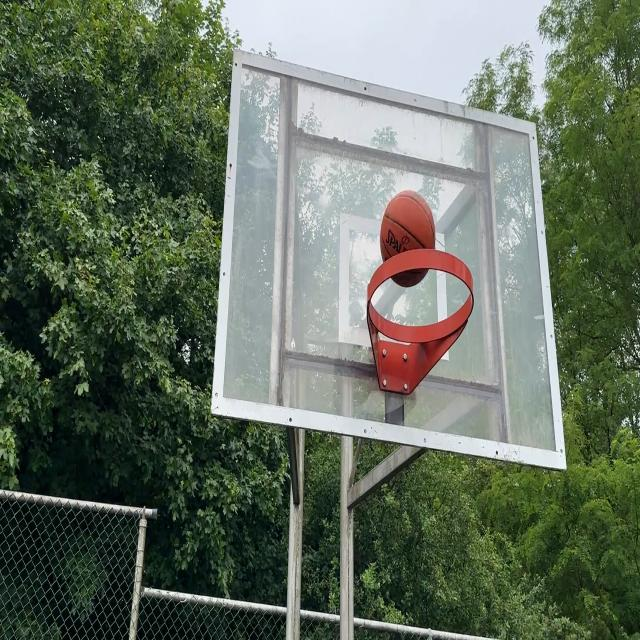rebound_hit: (380, 190, 436, 288)
